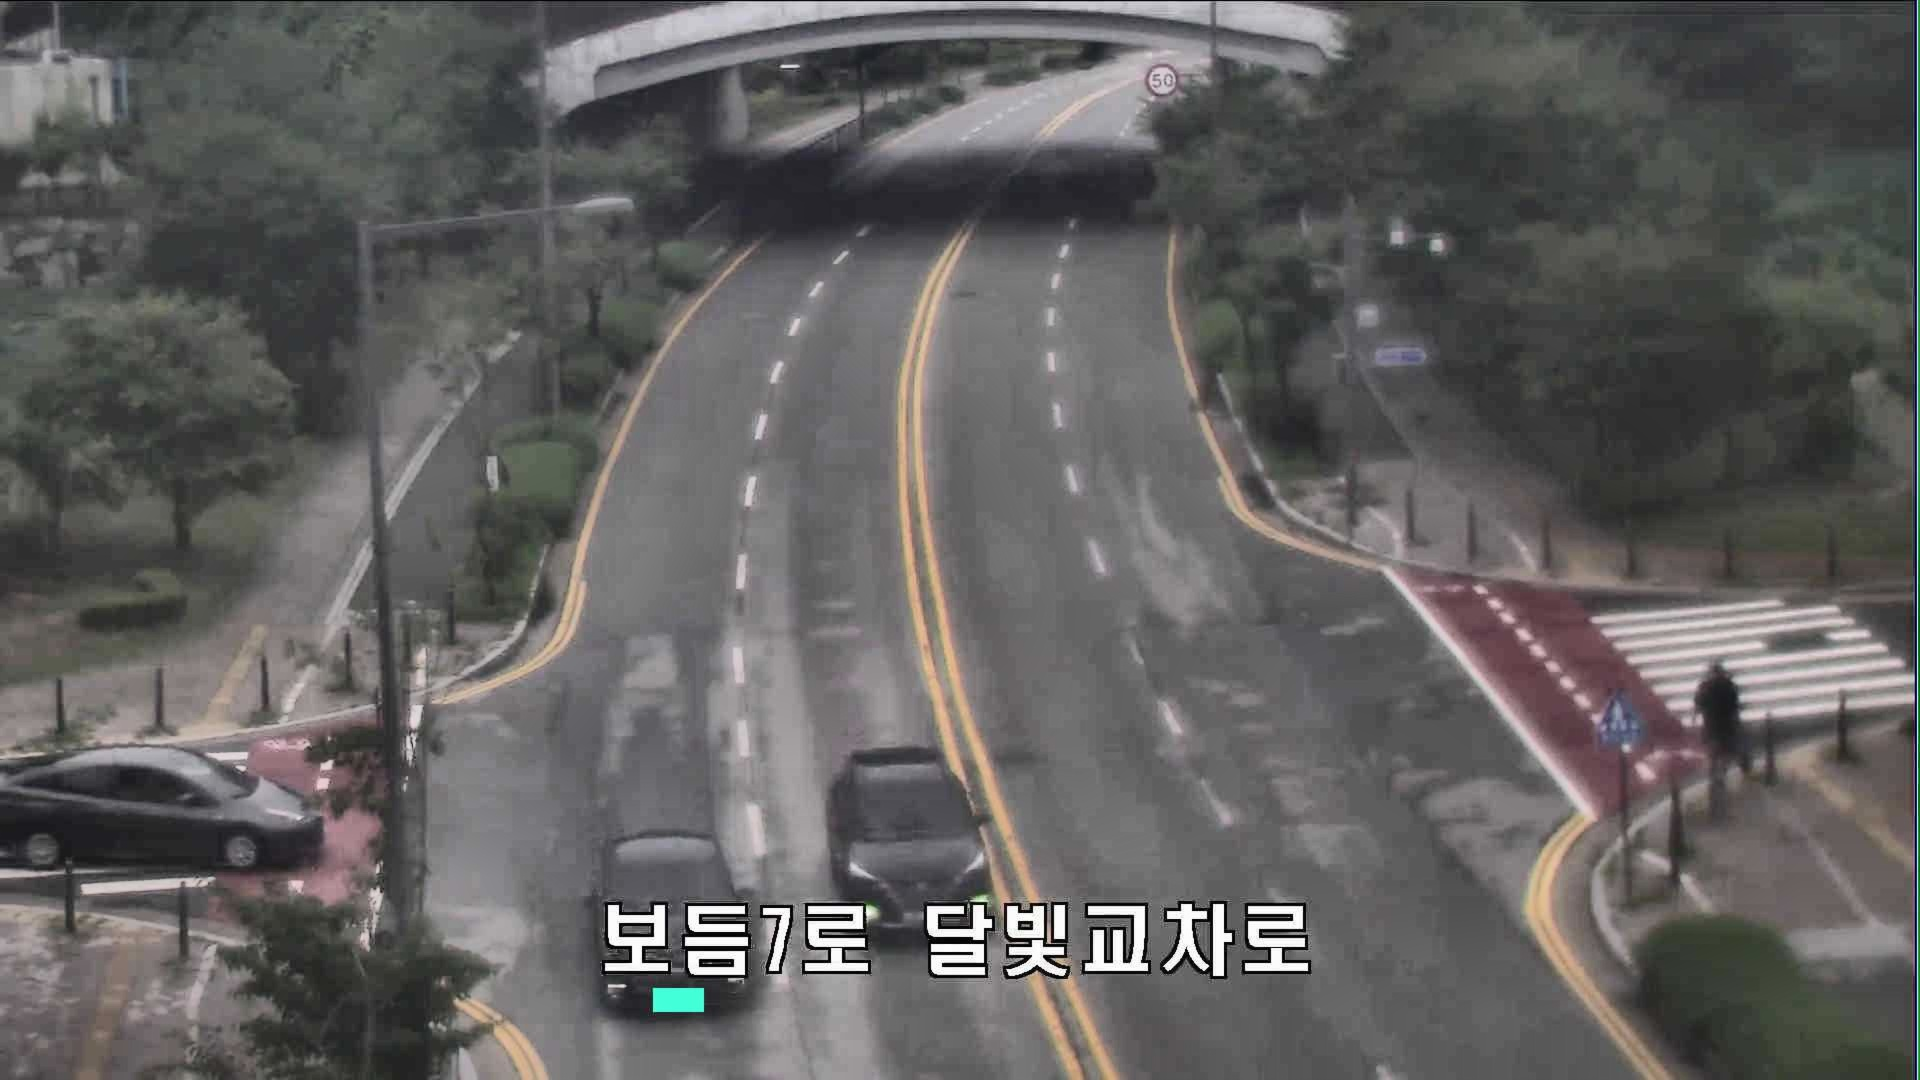sidewalk: (1689, 657, 1745, 807)
